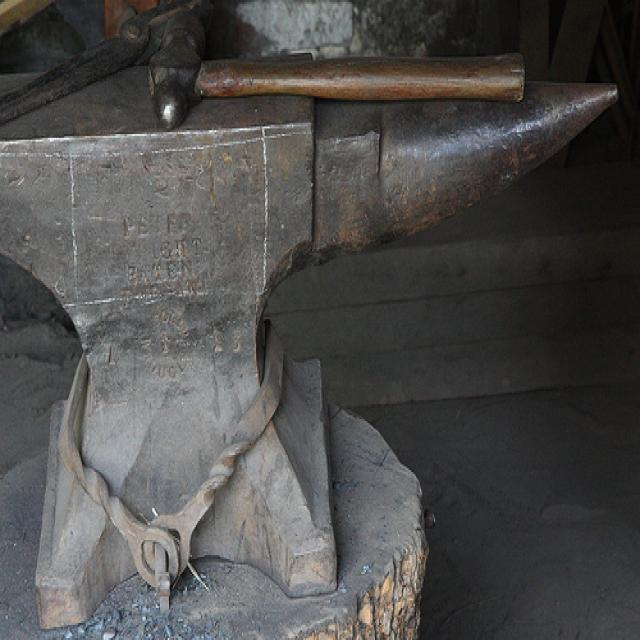hammer: (139, 0, 538, 160)
